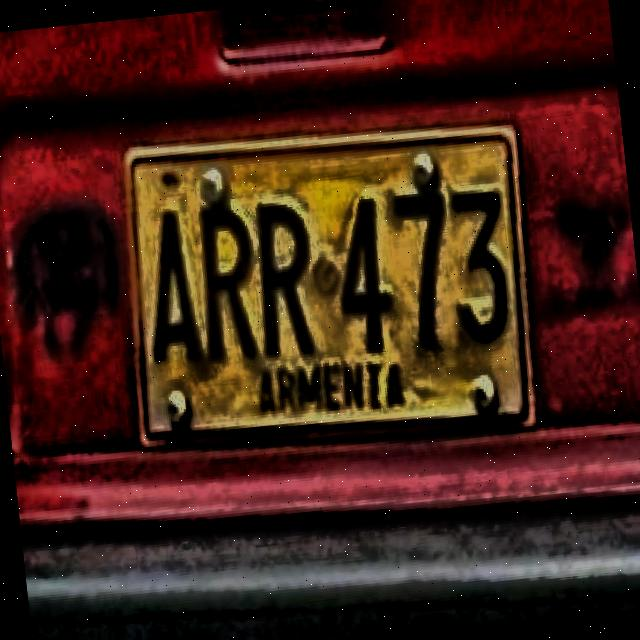3: (445, 184, 516, 356)
4: (330, 192, 404, 353)
7: (389, 187, 453, 357)
A: (136, 206, 205, 372)
R: (191, 200, 262, 366), (252, 202, 321, 361)
